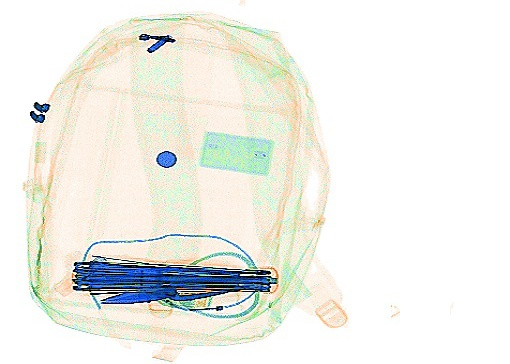scissors: (99, 249, 258, 319)
